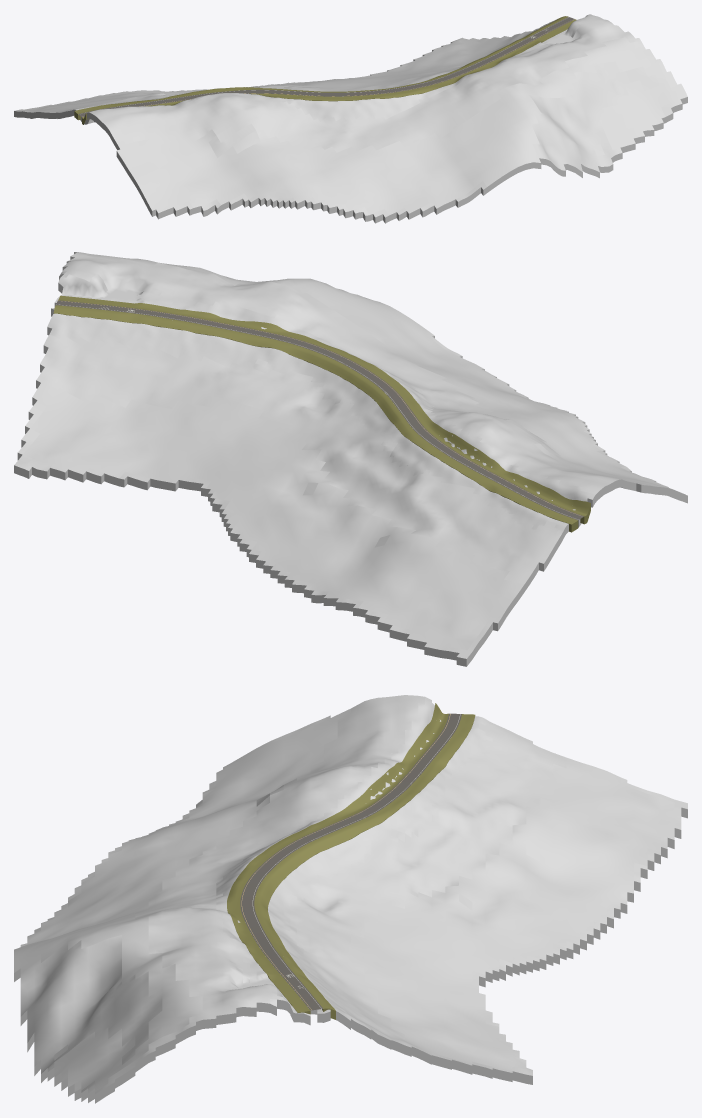
Rendered from conz_20.glb.
The picture shows the model from 3 angles, top to bottom: view 1: azimuth 30°, elevation 25°; view 2: azimuth 150°, elevation 25°; view 3: azimuth 270°, elevation 25°; orthographic projection. The views are drawn at different scales.
Visible parts, largest first — view 1: terrain20, road20, verge20L, verge20R; view 2: terrain20, verge20R, verge20L, road20; view 3: terrain20, verge20R, verge20L, road20.
Boxes of the visible parts, x1=… form: terrain20: x1=14, y1=14, x2=687, y2=223; road20: x1=78, y1=17, x2=574, y2=117; verge20L: x1=82, y1=19, x2=576, y2=124; verge20R: x1=74, y1=16, x2=568, y2=120; terrain20: x1=14, y1=252, x2=687, y2=666; verge20R: x1=53, y1=305, x2=578, y2=532; verge20L: x1=58, y1=295, x2=590, y2=524; road20: x1=56, y1=300, x2=583, y2=520; terrain20: x1=14, y1=695, x2=687, y2=1103; verge20R: x1=254, y1=714, x2=475, y2=1019; verge20L: x1=227, y1=703, x2=448, y2=1014; road20: x1=240, y1=713, x2=461, y2=1010.
Size of the model in its own units: 256 by 46.93 by 200.
